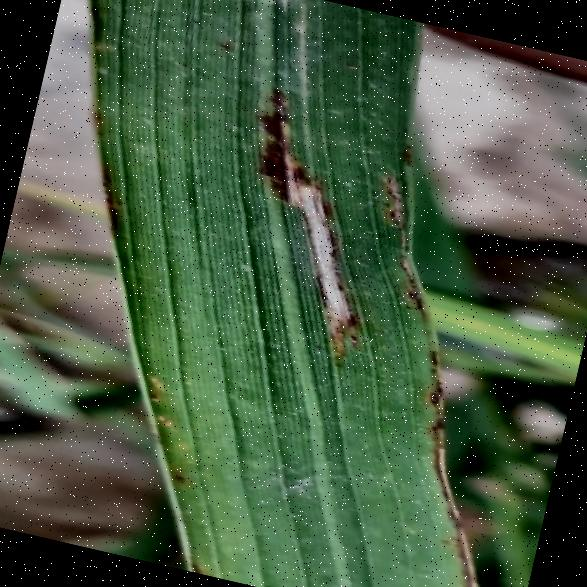Leaf_smut: (176, 41, 512, 408)
